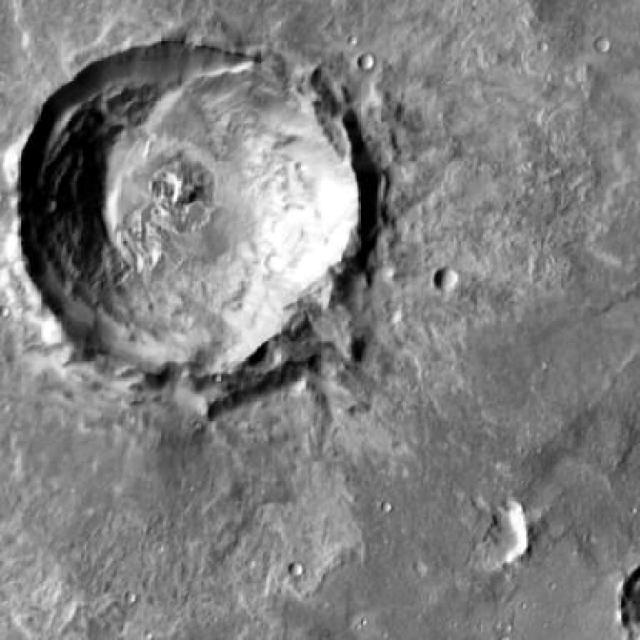crater: (21, 42, 364, 375), (486, 515, 540, 567), (433, 270, 459, 292), (359, 55, 376, 71)
